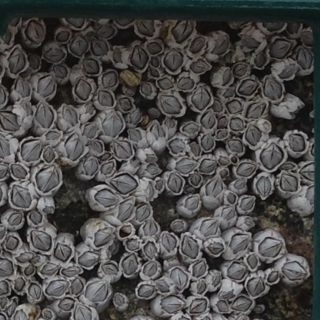Barnacle: (36, 165, 60, 193), (101, 111, 124, 138), (261, 144, 283, 170), (110, 175, 137, 196), (172, 20, 193, 45), (20, 140, 42, 163), (269, 40, 293, 61), (12, 184, 32, 209), (7, 49, 26, 75), (86, 281, 109, 302), (130, 45, 149, 70), (35, 103, 54, 128), (193, 86, 211, 112), (31, 231, 53, 252), (164, 49, 184, 72), (95, 189, 118, 209), (258, 239, 282, 258), (161, 295, 185, 314), (283, 262, 308, 280), (0, 110, 20, 132), (160, 96, 183, 115), (27, 20, 44, 45), (70, 35, 89, 57), (37, 75, 56, 97), (244, 125, 263, 147), (68, 135, 84, 161), (174, 158, 198, 175), (230, 233, 249, 254), (265, 78, 283, 100), (181, 236, 199, 258), (118, 200, 135, 223), (137, 19, 156, 39), (94, 228, 113, 248), (53, 244, 73, 263), (199, 219, 220, 237), (227, 262, 248, 280), (75, 79, 92, 101), (47, 280, 70, 296), (205, 179, 223, 199), (247, 277, 265, 297), (296, 49, 313, 70), (238, 79, 259, 96), (170, 269, 187, 290), (101, 70, 119, 89), (114, 140, 133, 158), (240, 34, 261, 50), (246, 103, 267, 119), (98, 90, 115, 109), (213, 36, 229, 56), (15, 80, 31, 100), (122, 255, 138, 275), (44, 47, 65, 62), (78, 252, 99, 267), (188, 38, 206, 55), (281, 175, 298, 193), (62, 107, 78, 126), (237, 161, 256, 177), (0, 133, 12, 158), (84, 156, 99, 176), (256, 177, 271, 197), (233, 297, 253, 312), (162, 233, 176, 254), (0, 258, 14, 279), (289, 135, 306, 152), (91, 40, 109, 56), (83, 59, 101, 75), (300, 164, 316, 182), (201, 110, 216, 129), (144, 242, 159, 261), (189, 299, 208, 314), (64, 15, 85, 28), (278, 65, 296, 80), (168, 175, 183, 193), (97, 26, 116, 40), (305, 185, 318, 205), (190, 59, 207, 74), (151, 123, 166, 140), (75, 304, 92, 319), (261, 21, 284, 32), (12, 164, 27, 180), (178, 77, 195, 91), (199, 159, 216, 173), (136, 205, 150, 222), (144, 220, 158, 237), (138, 284, 155, 298), (286, 20, 301, 35), (84, 123, 99, 138), (227, 100, 243, 114), (147, 42, 164, 55), (129, 109, 142, 126), (208, 242, 225, 255), (193, 261, 206, 278), (2, 28, 14, 46), (41, 264, 59, 276), (101, 265, 119, 277), (185, 196, 200, 210), (221, 207, 236, 221), (156, 279, 170, 294), (255, 52, 268, 68), (21, 103, 34, 119), (71, 279, 84, 295), (112, 47, 124, 64), (29, 284, 41, 301), (6, 300, 18, 317), (144, 183, 155, 201), (234, 63, 248, 77), (54, 65, 68, 79), (129, 129, 143, 143), (228, 140, 243, 153), (7, 214, 22, 227), (6, 236, 19, 251), (202, 135, 214, 151), (44, 147, 56, 163), (119, 97, 132, 111), (144, 263, 157, 277), (60, 298, 74, 311), (159, 79, 174, 91), (248, 254, 259, 270), (101, 162, 114, 175), (29, 212, 42, 225), (126, 238, 139, 251), (303, 33, 315, 47), (231, 117, 243, 131), (241, 198, 253, 212), (63, 268, 81, 277), (29, 54, 39, 70), (222, 70, 232, 86), (142, 84, 154, 97), (223, 87, 236, 99), (92, 140, 104, 153), (57, 31, 71, 42), (217, 300, 228, 314), (0, 280, 9, 297), (183, 124, 198, 134), (145, 165, 160, 175), (46, 131, 62, 140), (213, 98, 223, 112), (191, 142, 201, 156), (149, 108, 161, 119), (24, 265, 35, 277), (85, 104, 95, 117), (218, 115, 228, 128), (15, 279, 24, 293), (14, 310, 28, 319), (235, 180, 246, 191), (191, 174, 201, 186), (268, 272, 278, 284), (116, 295, 126, 307), (18, 254, 31, 263), (212, 274, 221, 287), (197, 281, 206, 294), (217, 131, 229, 140), (218, 156, 230, 165), (0, 166, 9, 178), (43, 309, 53, 319), (145, 154, 156, 163), (44, 207, 55, 216), (221, 292, 234, 299), (150, 70, 160, 79), (166, 119, 176, 128), (151, 57, 159, 68), (263, 121, 271, 132), (228, 193, 236, 204), (281, 164, 295, 170), (156, 180, 163, 192), (220, 168, 228, 177), (174, 222, 183, 230)
